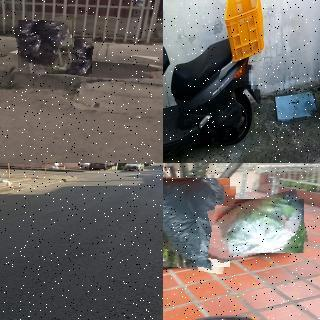Garbage: (163, 174, 232, 270), (209, 194, 307, 258), (15, 18, 75, 71), (46, 37, 93, 75), (0, 178, 8, 183), (6, 181, 12, 187), (55, 166, 59, 170), (51, 166, 56, 169)
